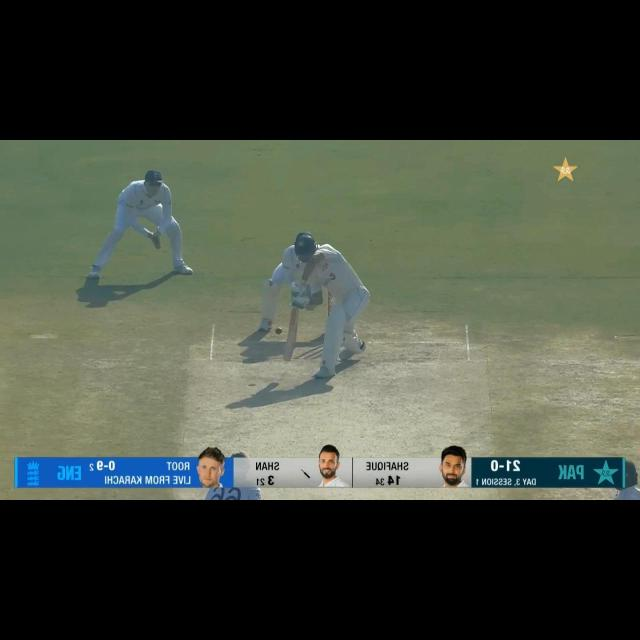bat: (282, 309, 298, 362)
toe: (281, 351, 294, 362)
